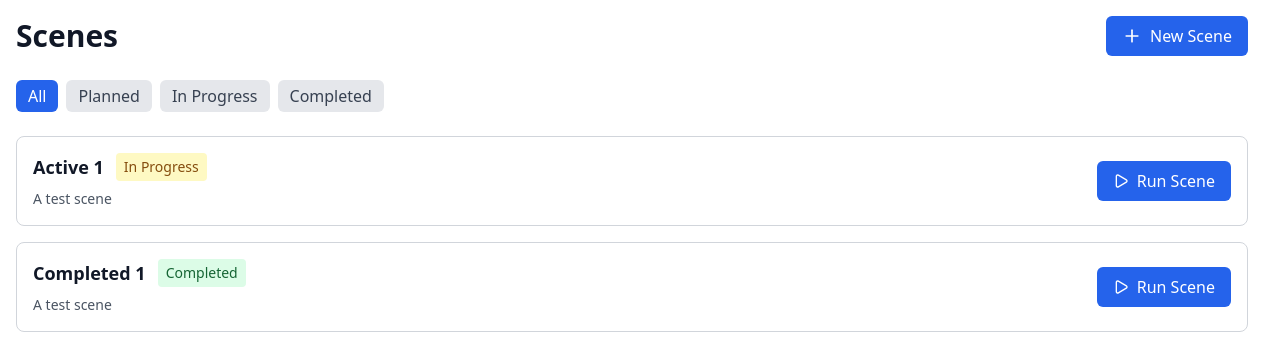
Test: Scene List Page - Status Filtering › should filter to show only completed scenes
The image size is (1265, 349).
Click the button "Completed": (331, 96) [278,80,384,112]
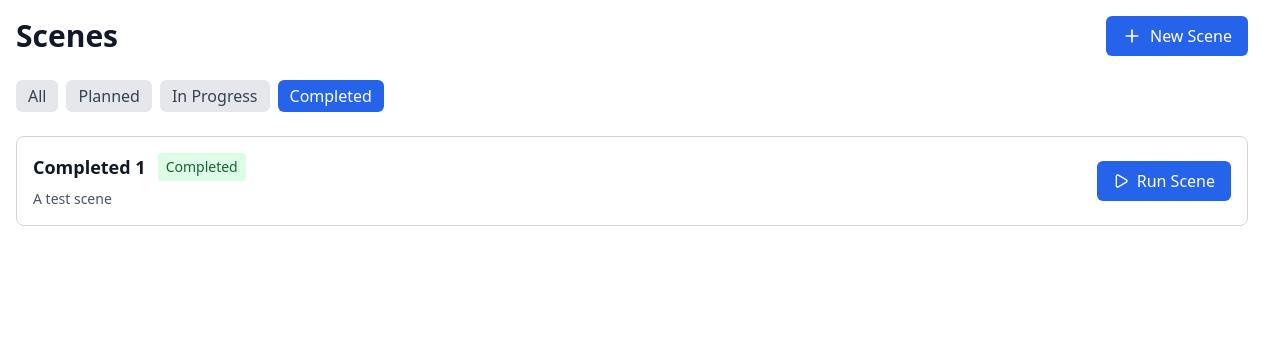
Expected: the heading "Completed 1" is shown, [33,153,146,181]
Now the heading "Active 1" is gone
